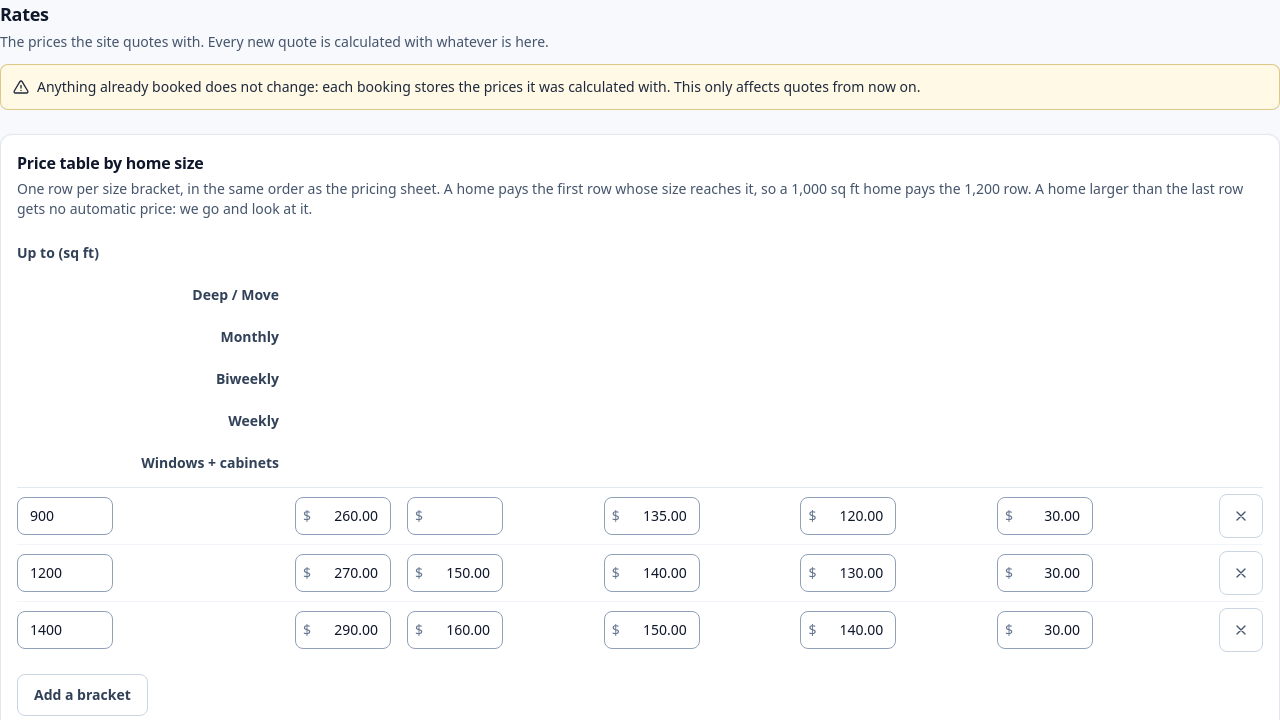
Scenario: la pantalla de tarifas › un campo vacio NO se guarda como cero
Clear the 2nd field labelled "$". click: (455,516)
box: [407, 497, 503, 535]
(page scrolled)
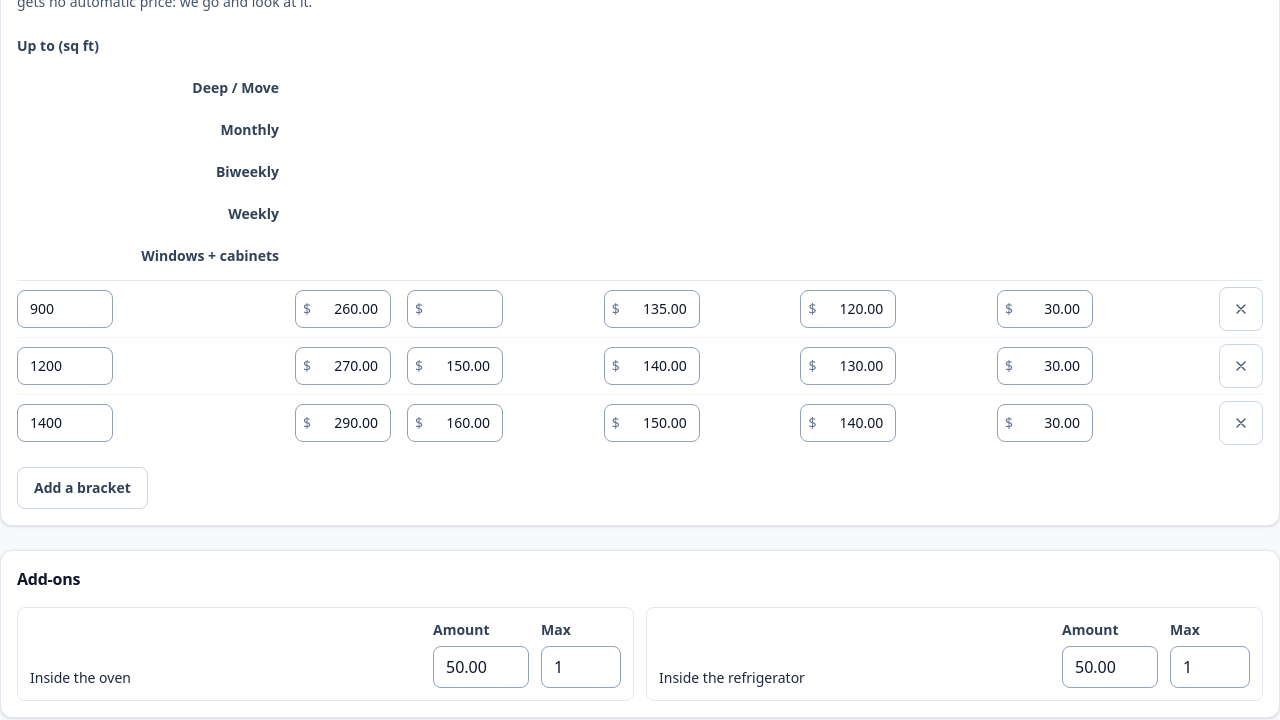
Submit the form
(page scrolled)
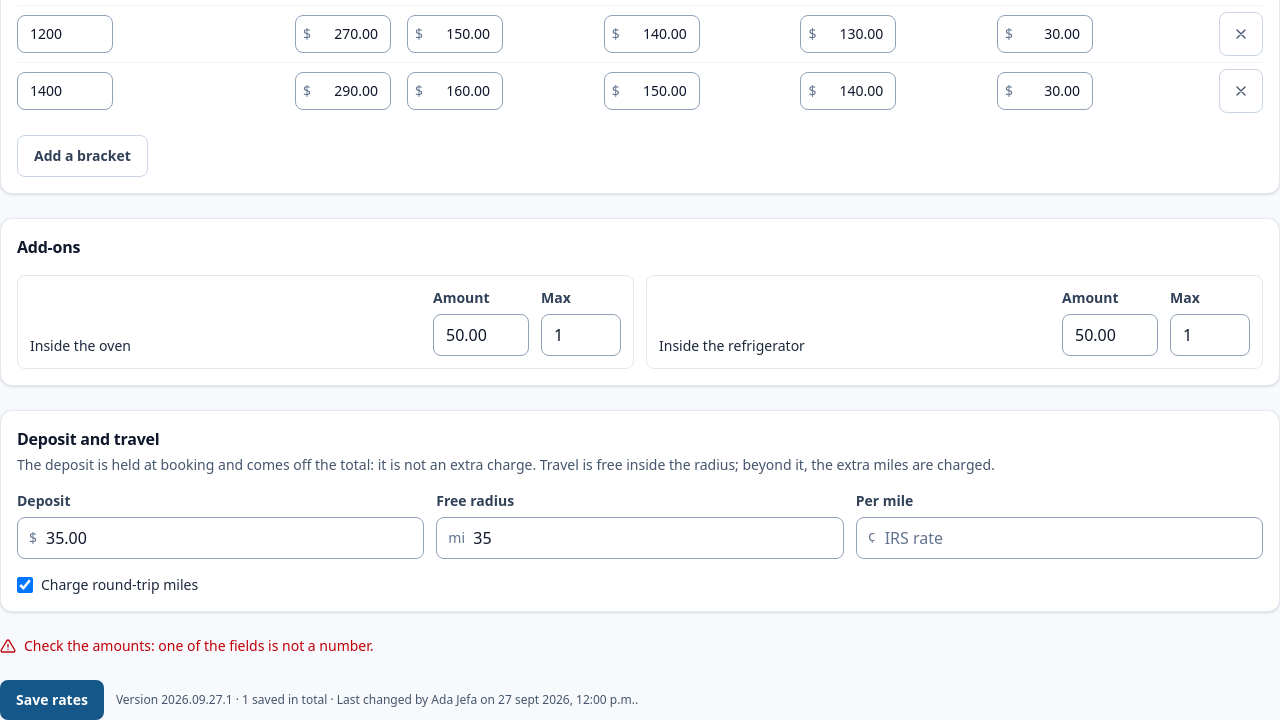
Result: the message "Check the amounts: one of the fields is not a number." is shown at [0, 636, 374, 655]
